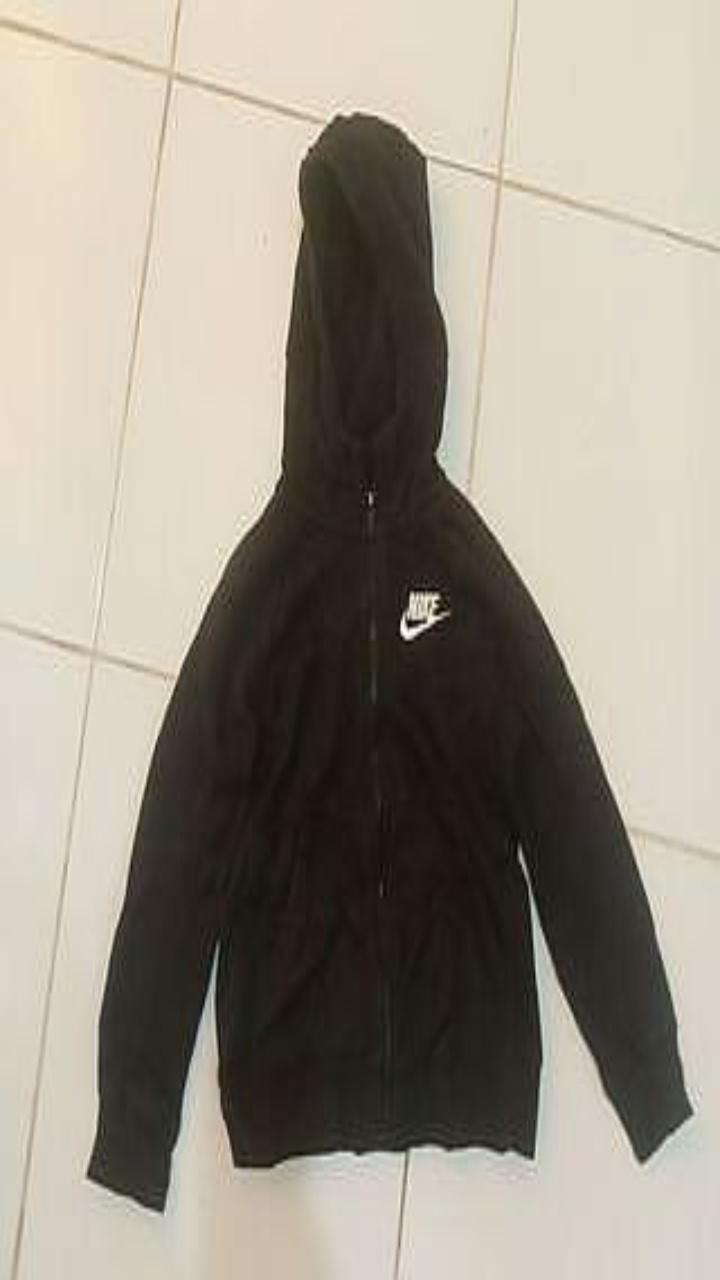Sports_Jacket: (86, 111, 692, 1210)
